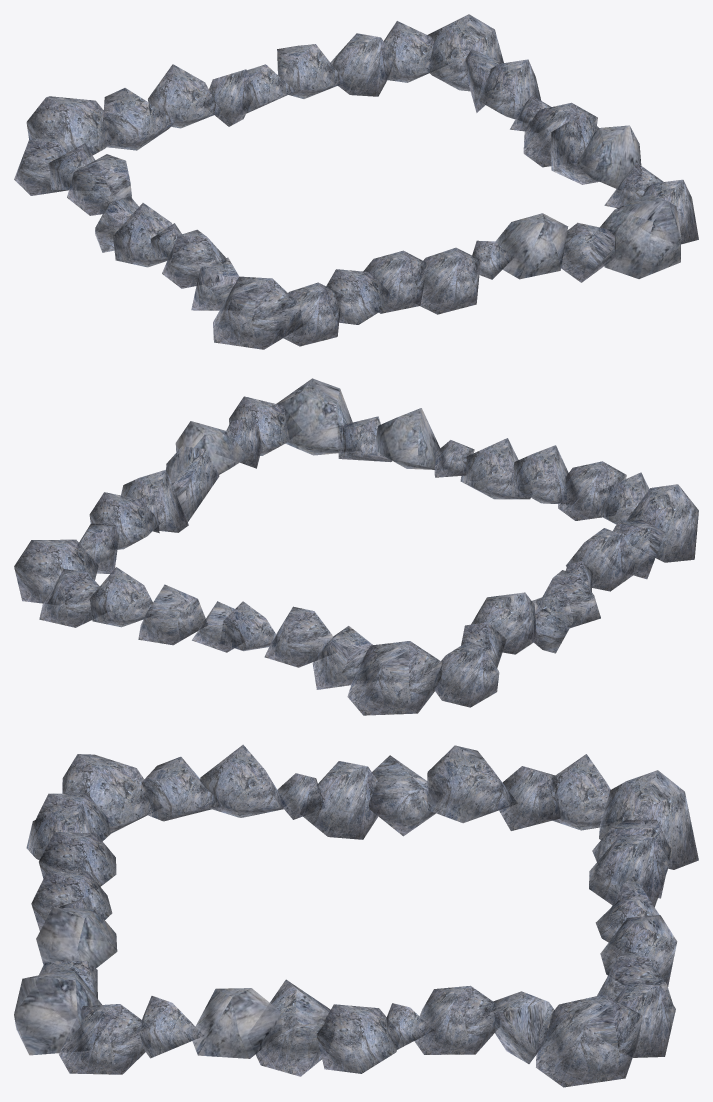
Rendered from stone.gltf.
3 renders of one model, top to bottom at view 1: azimuth 30°, elevation 25°; view 2: azimuth 150°, elevation 25°; view 3: azimuth 270°, elevation 25°, orthographic. The views are drawn at different scales.
Parts seen in each view (by area): view 1: 立方体.001; view 2: 立方体.001; view 3: 立方体.001.
Boxes of the visible parts, x1=… form: 立方体.001: x1=14, y1=14, x2=698, y2=349; 立方体.001: x1=14, y1=378, x2=698, y2=715; 立方体.001: x1=14, y1=744, x2=698, y2=1087.
Bounding box in the file's own units: 2.53 × 0.3773 × 2.6.
Materials: 1 (1 with a texture image).
